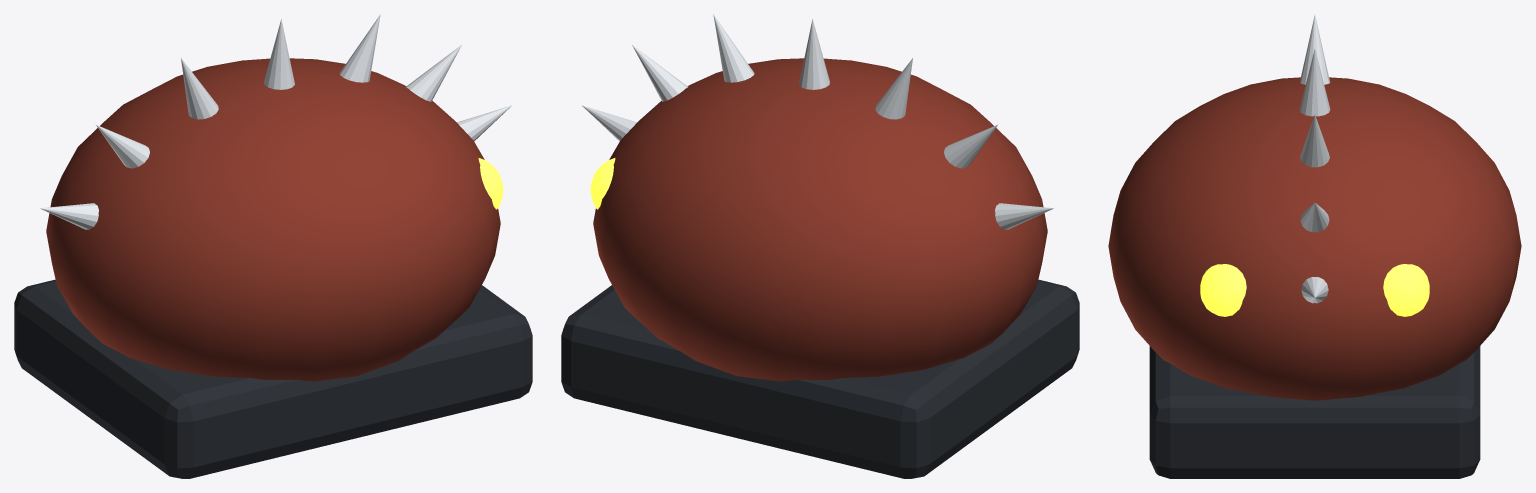
File: spiky.glb
The picture shows the model from 3 angles, left to right: view 1: azimuth 30°, elevation 25°; view 2: azimuth 150°, elevation 25°; view 3: azimuth 270°, elevation 25°; orthographic projection. The views are drawn at different scales.
Parts seen in each view (by area): view 1: Sphere, Cube, Cone, Sphere.001; view 2: Sphere, Cube, Cone, Sphere.001; view 3: Sphere, Cube, Cone, Sphere.001.
Part boxes in pixels (bbox=[...]): Sphere: bbox=[46, 58, 500, 381]; Cube: bbox=[14, 279, 532, 478]; Cone: bbox=[40, 14, 511, 229]; Sphere.001: bbox=[478, 158, 503, 209]; Sphere: bbox=[593, 58, 1047, 381]; Cube: bbox=[561, 279, 1079, 478]; Cone: bbox=[582, 14, 1053, 229]; Sphere.001: bbox=[590, 158, 615, 209]; Sphere: bbox=[1108, 77, 1521, 400]; Cube: bbox=[1149, 346, 1480, 478]; Cone: bbox=[1299, 15, 1330, 303]; Sphere.001: bbox=[1200, 264, 1429, 316].
Bounding box in the file's own units: 1.29 × 0.9497 × 1.
